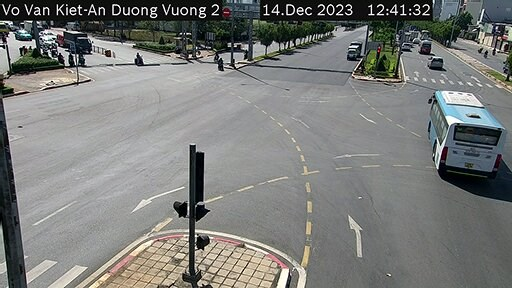bus: (433, 81, 506, 179)
car: (427, 52, 450, 77)
motorbike: (214, 57, 228, 74), (132, 50, 144, 68)
truck: (60, 29, 95, 56), (345, 40, 364, 65), (418, 37, 431, 56)
